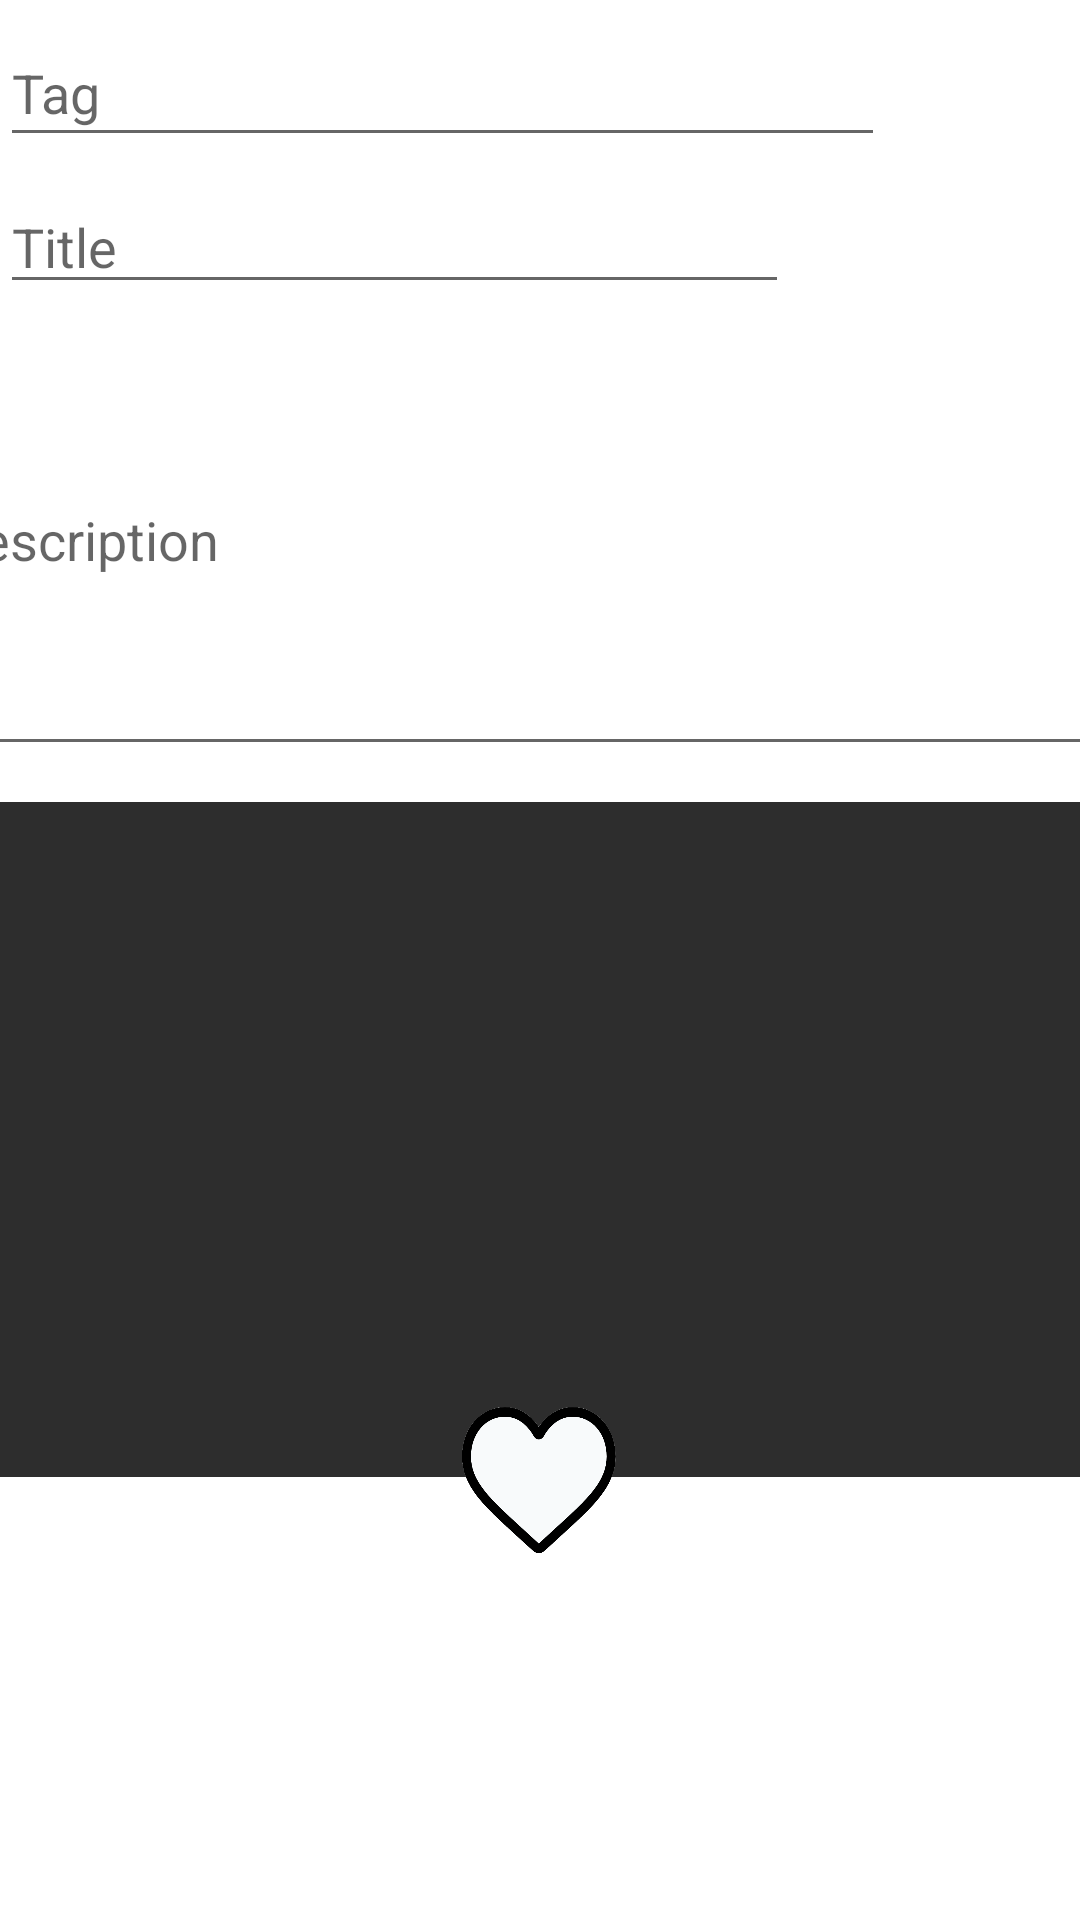

Icon click points for this 1080x1920 phone screenshot, format point (x, y):
hearticon: point (540, 1477)
